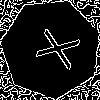X: (26, 23, 81, 71)
